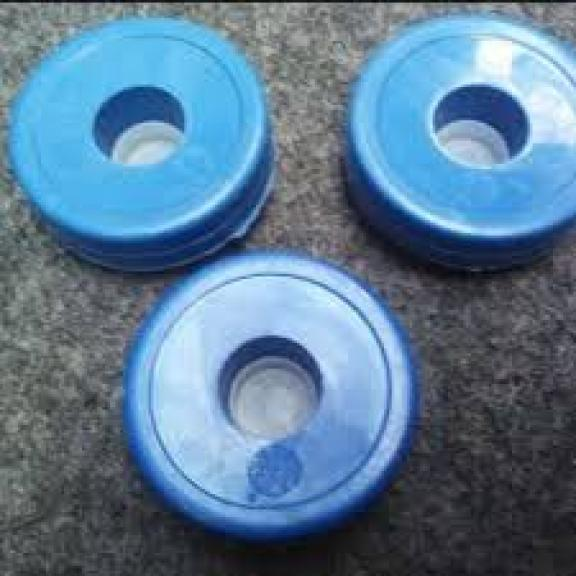Plastik: (120, 251, 422, 550), (10, 15, 276, 274), (343, 13, 576, 274)
